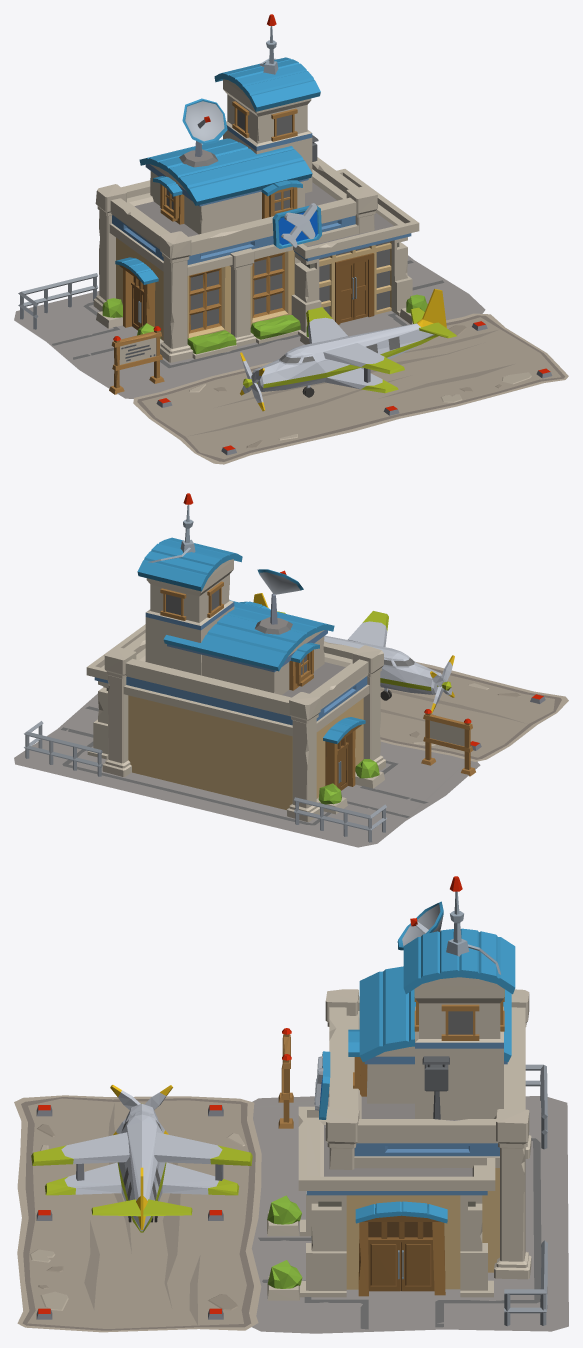
The model's file is Build_Airport02.FBX.
3 views of the same model, one above another, from view 1: azimuth 30°, elevation 25°; view 2: azimuth 150°, elevation 25°; view 3: azimuth 270°, elevation 25° (orthographic). The views are drawn at different scales.
Parts seen in each view (by area): view 1: Build_Airport02, Airplane02, Build_Airport03_Radar002; view 2: Build_Airport02, Airplane02, Build_Airport03_Radar002, Airplane02_luoxuanjiang02; view 3: Build_Airport02, Airplane02, Build_Airport03_Radar002, Airplane02_luoxuanjiang02.
Part boxes in pixels (box(x1,y1,x2,y2)): Build_Airport02: box(14, 14, 568, 464); Airplane02: box(243, 289, 456, 397); Build_Airport03_Radar002: box(182, 98, 227, 144); Build_Airport02: box(14, 493, 568, 847); Airplane02: box(253, 593, 451, 700); Build_Airport03_Radar002: box(257, 569, 303, 594); Airplane02_luoxuanjiang02: box(430, 655, 454, 713); Build_Airport02: box(14, 876, 568, 1333); Airplane02: box(31, 1103, 252, 1232); Build_Airport03_Radar002: box(397, 901, 443, 950); Airplane02_luoxuanjiang02: box(110, 1085, 172, 1135).
Bounding box in the file's own units: 897 × 639 × 879.
1 material, 1 textured.
